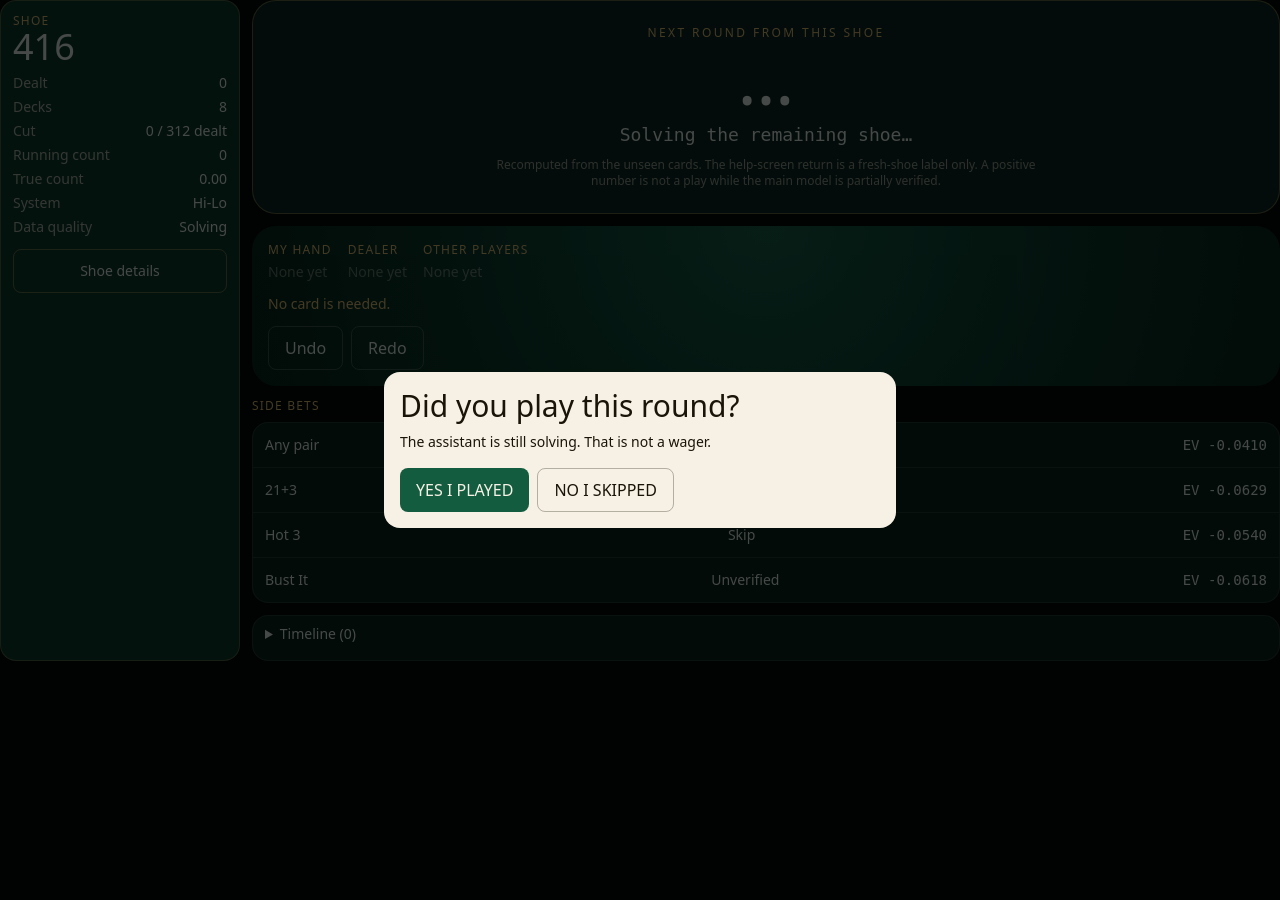
it: table participation › keeps the card window open after a skipped round starts taking cards
This screenshot has width=1280, height=900.
Click the button "NO I SKIPPED". click: click(606, 490)
box: [538,468,674,512]
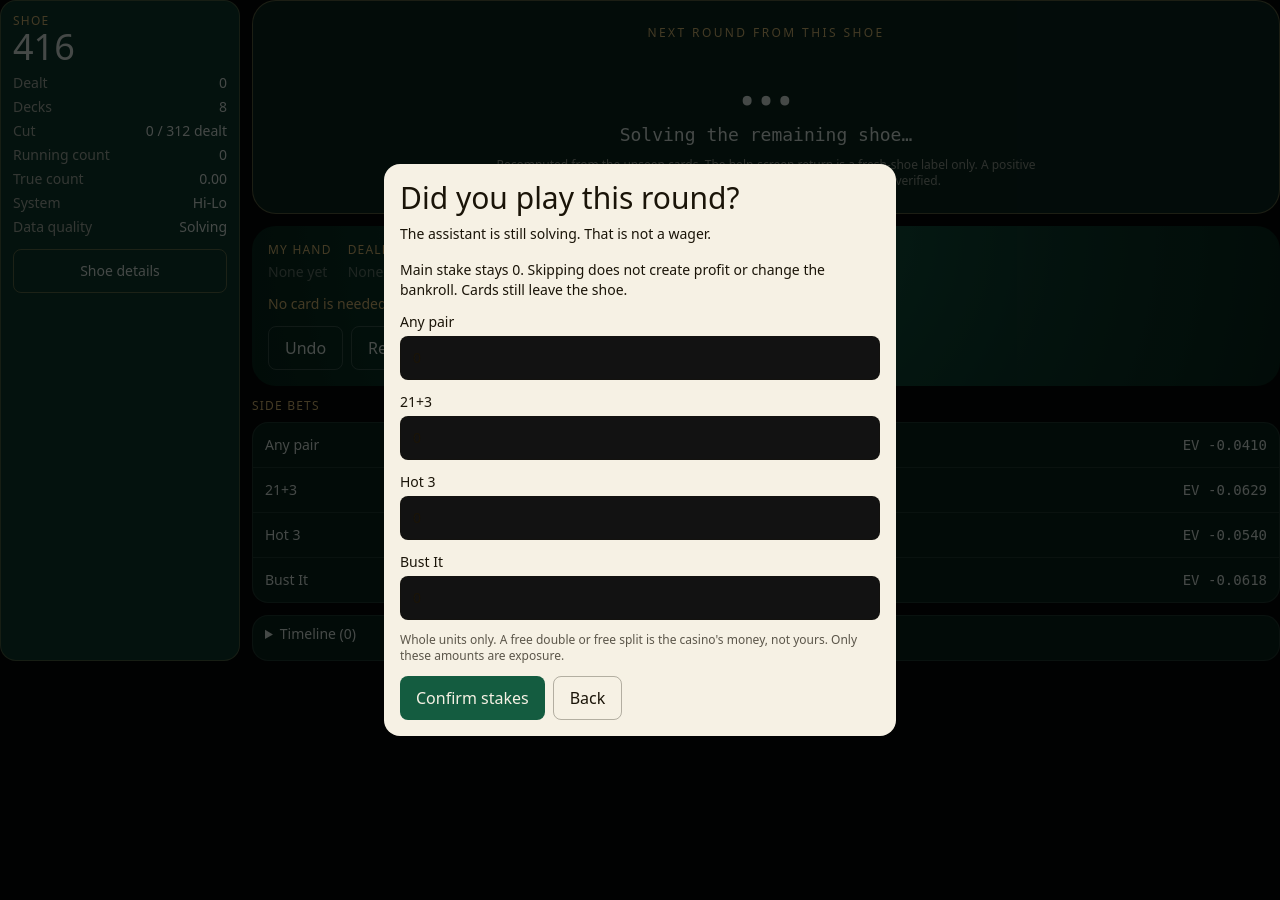
Click the button "Confirm stakes". click: click(472, 698)
box: [400,676,545,720]
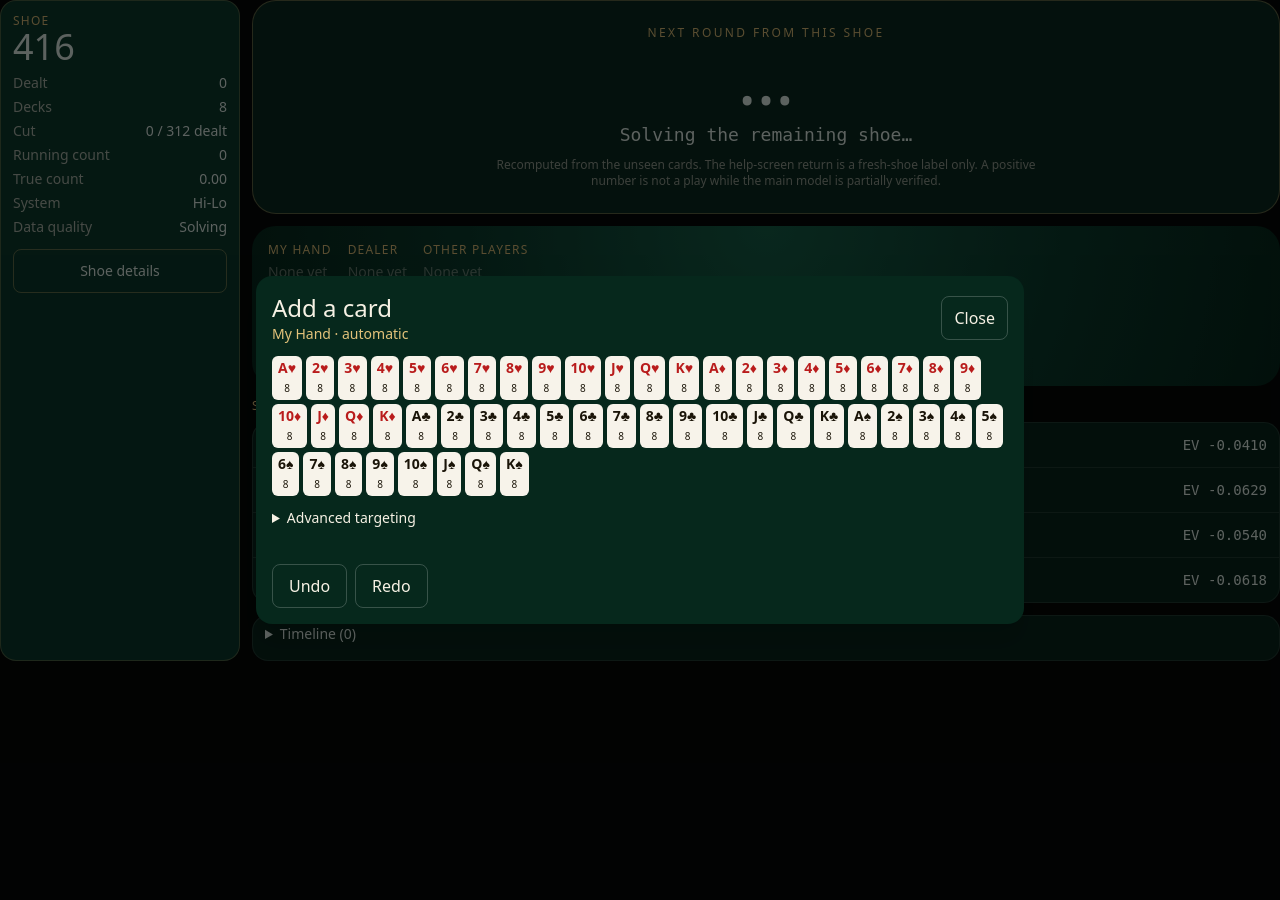
Expected: the dialog "Add a card" is shown, [256,276,1024,624]
Click the button named "2 of hearts". click: click(320, 378)
box: [306,356,334,400]
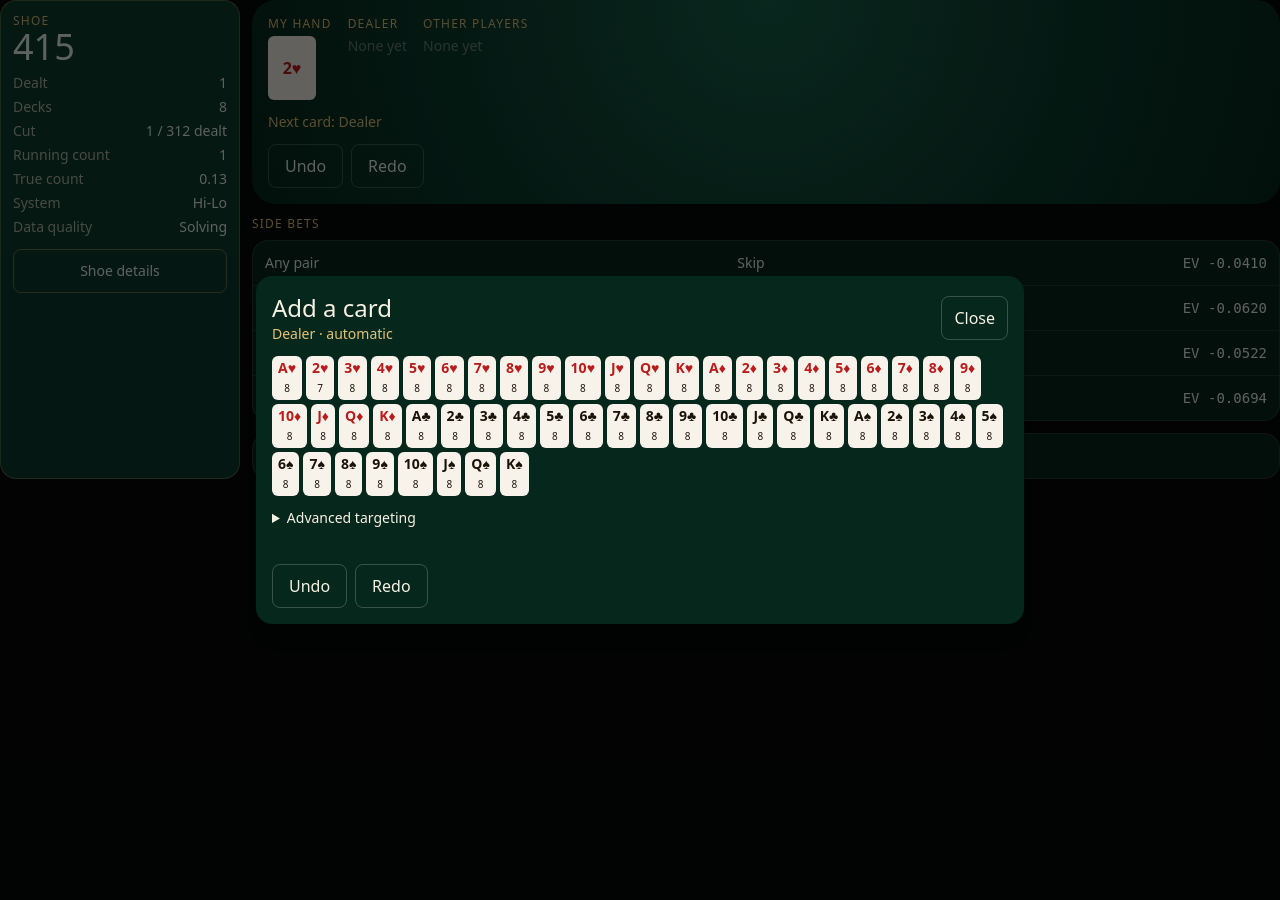
Expected: the dialog "Add a card" is shown, [256,276,1024,624]
Expected: the text "Next card: Dealer" is shown, [268,112,382,131]
Expected: the element with test id "round-advisor" is gone
